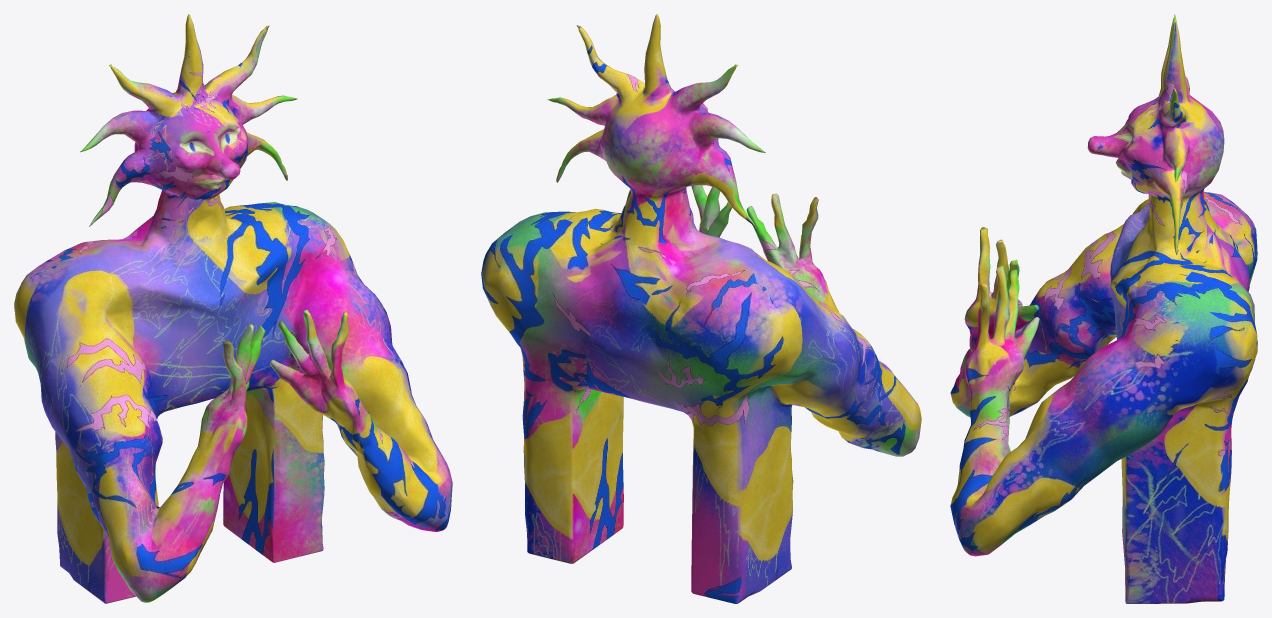
File: shr-sun-man.glb
3 views of the same model, side by side, from view 1: azimuth 30°, elevation 25°; view 2: azimuth 150°, elevation 25°; view 3: azimuth 270°, elevation 25° (orthographic). The views are drawn at different scales.
Visible parts, largest first — view 1: geometry_0; view 2: geometry_0; view 3: geometry_0.
Boxes of the visible parts, x1,y1,x2,y2 form: geometry_0: [14, 14, 452, 603]; geometry_0: [481, 14, 921, 603]; geometry_0: [950, 14, 1257, 603].
Bounding box in the file's own units: 0.6399 × 1 × 0.5248.
Materials: 1 (1 with a texture image).
